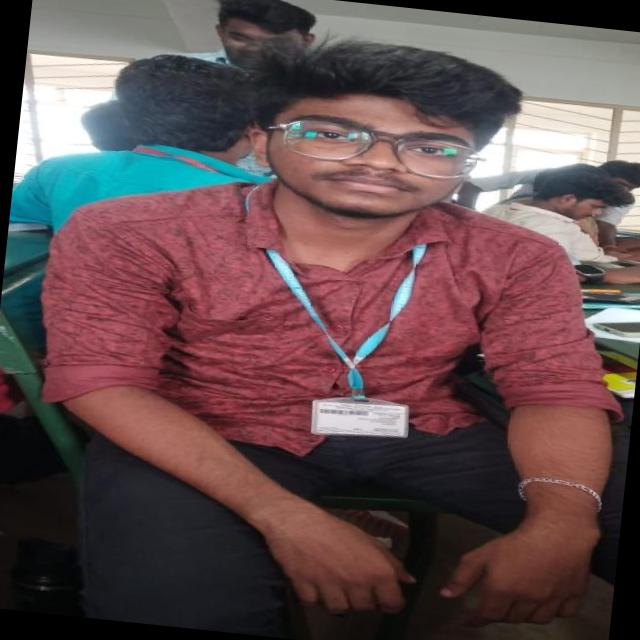id_card: (247, 216, 436, 444)
